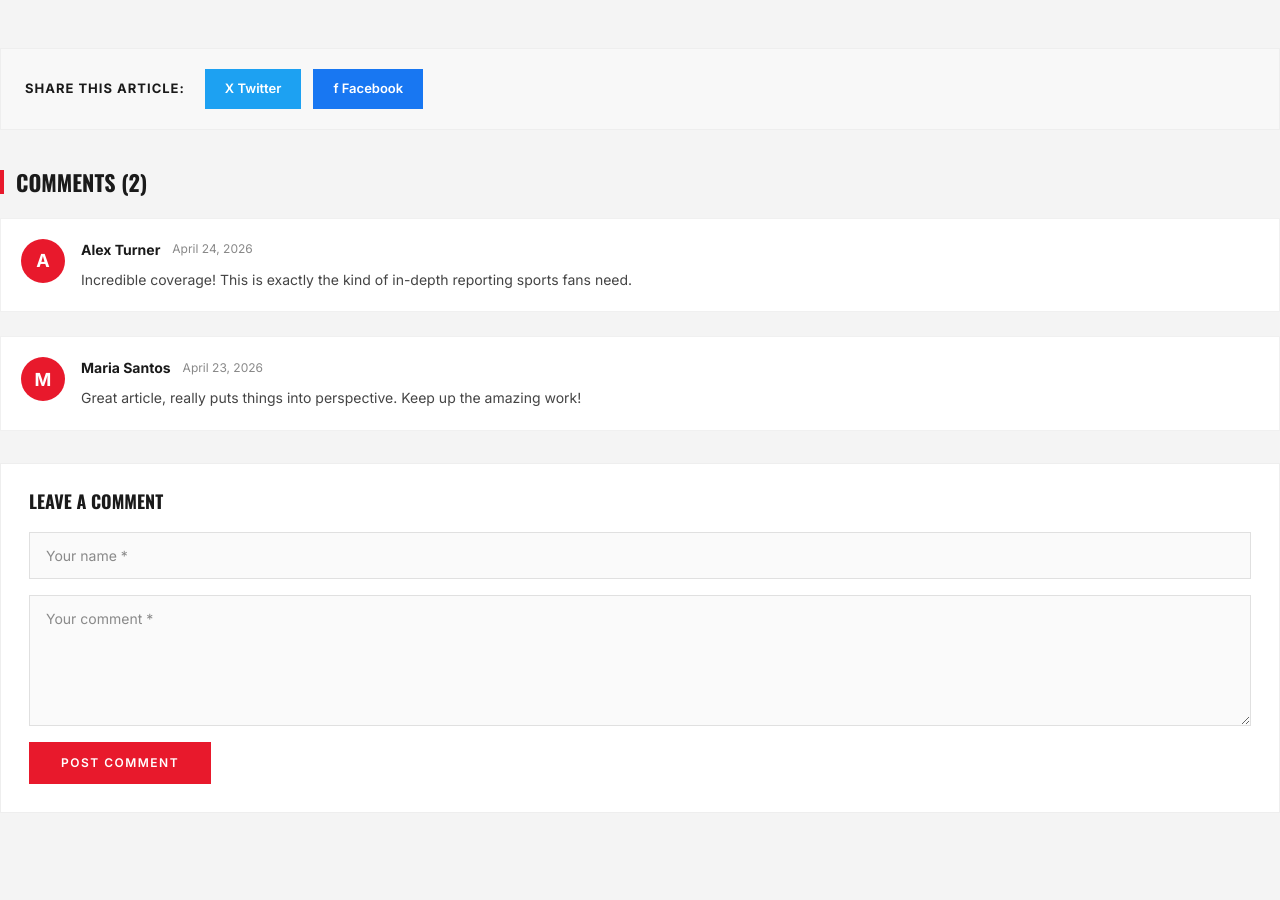
it: CommentSection — ulashish (share) › Twitter bosilgandan keyin ✓ belgisi paydo bo'ladi
The width and height of the screenshot is (1280, 900).
Click the button "X Twitter" at x=253, y=89, box 205,69 -> 301,108
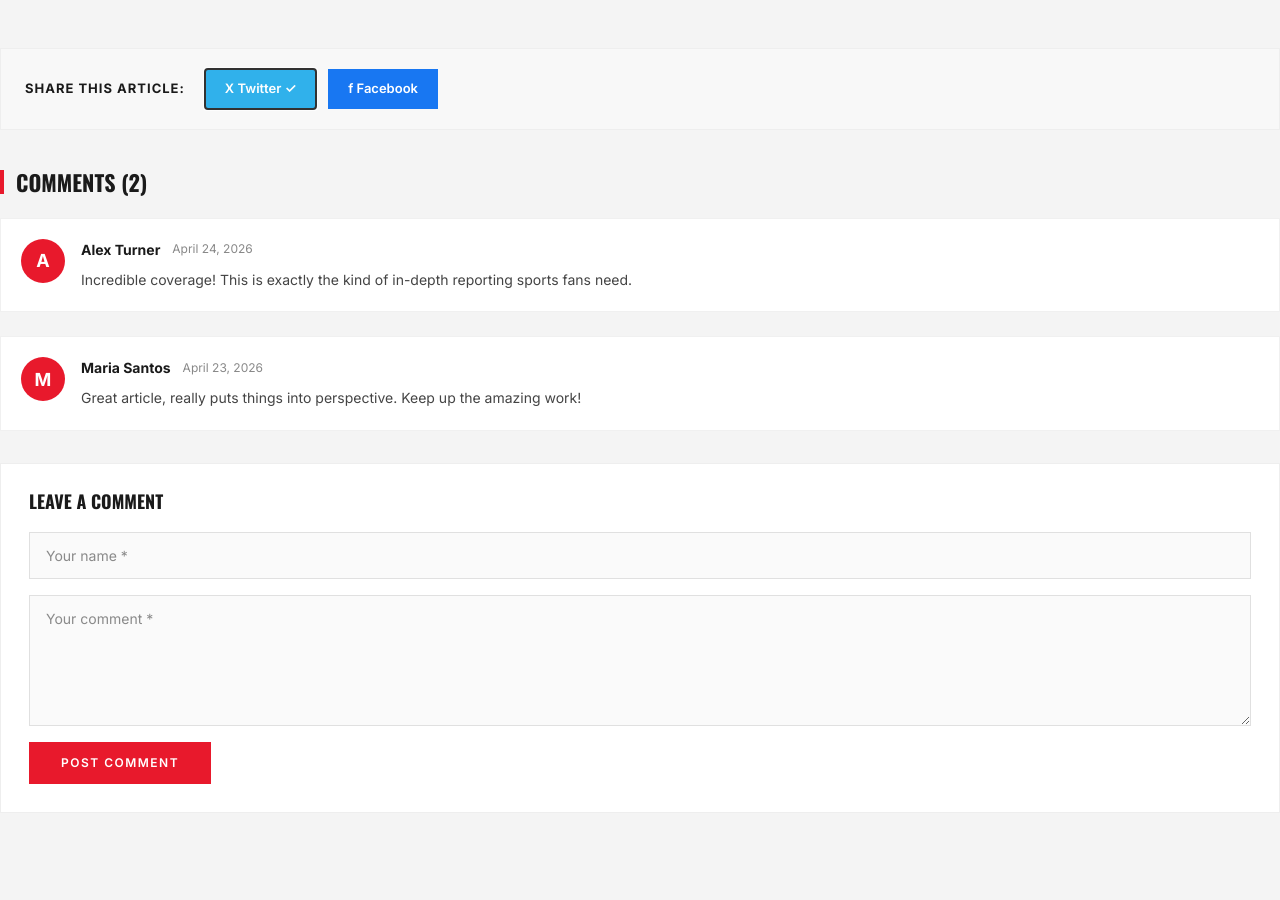
Expected: the button "X Twitter ✓" is shown, 205,69 -> 316,108
